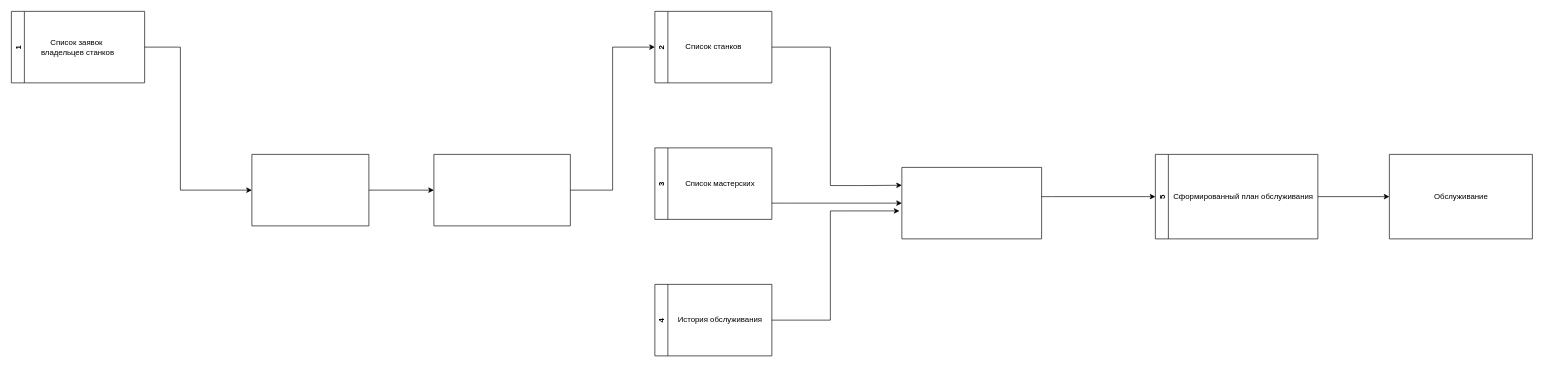
The diagram is 1544 pixels wide and 367 high, and some of its shapes have lost their labels. The shapes that lost their labels are listed below. From the top down, each one's box as (x1, y1, x2, y2) in pixels, then its label:
(251, 154, 369, 226): Анализ параментров станка
(433, 154, 570, 226): Распределение станков по мастерским
(901, 167, 1042, 239): Формирование плана обслуживания
